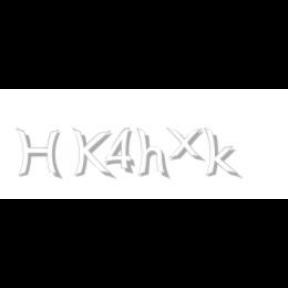4: (104, 128, 136, 174)
H: (16, 128, 62, 180)
K: (72, 128, 112, 180)
h: (136, 128, 171, 180)
k: (204, 128, 242, 180)
x: (166, 128, 208, 162)
